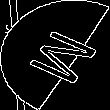M_SE: (13, 22, 97, 88)
